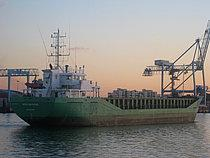Ship: (5, 24, 207, 131)
